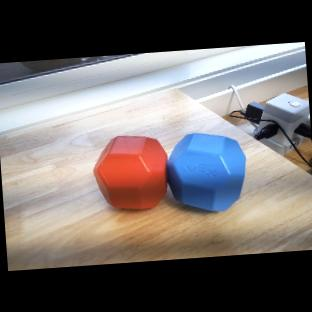V5_BLUE: (166, 126, 248, 214)
V5_RED: (90, 132, 170, 214)
